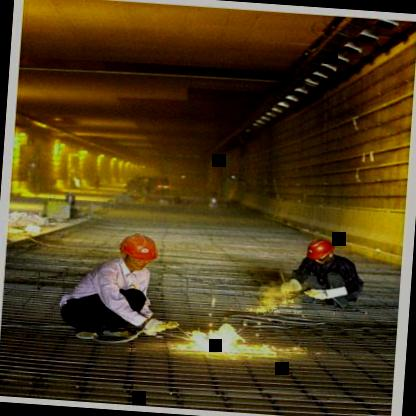helmet: (117, 232, 161, 272), (306, 236, 338, 268)
